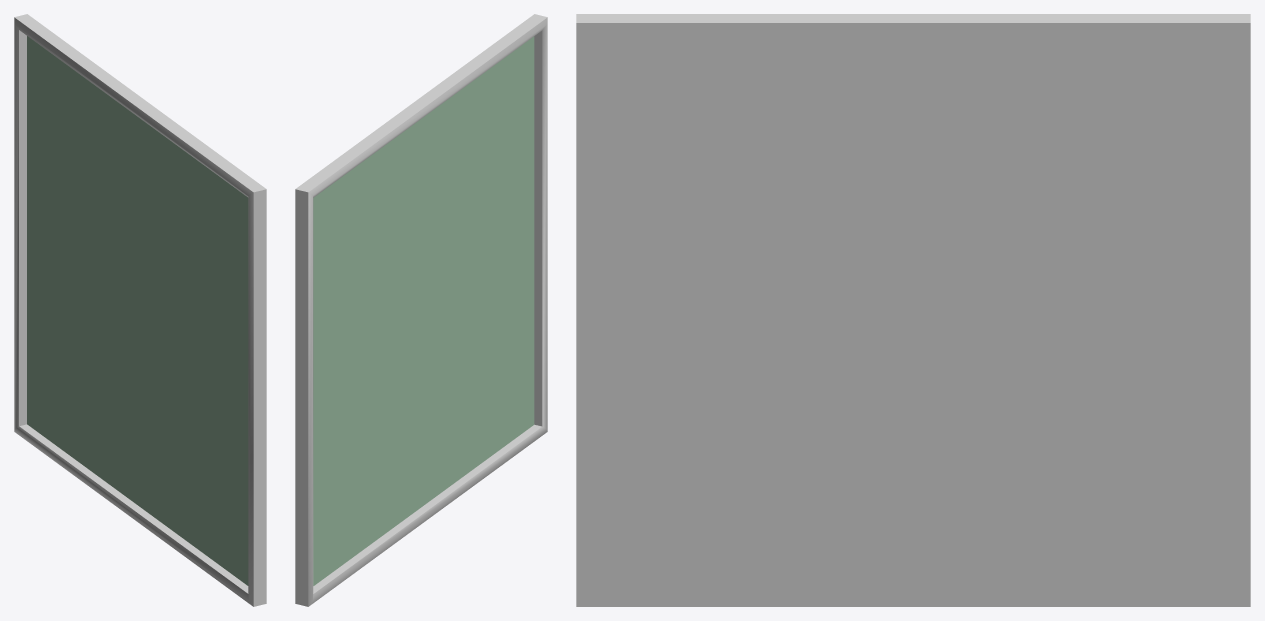
3 renders of one model, left to right at view 1: azimuth 30°, elevation 25°; view 2: azimuth 150°, elevation 25°; view 3: azimuth 270°, elevation 25°, orthographic. The views are drawn at different scales.
Visible parts, largest first — view 1: GH0305; view 2: GH0305; view 3: GH0305.
Boxes of the visible parts, x1,y1,x2,y2 form: GH0305: [14, 14, 266, 606]; GH0305: [295, 14, 547, 606]; GH0305: [576, 14, 1250, 606].
Bounding box in the file's own units: 2.47 × 67.13 × 64.14.
